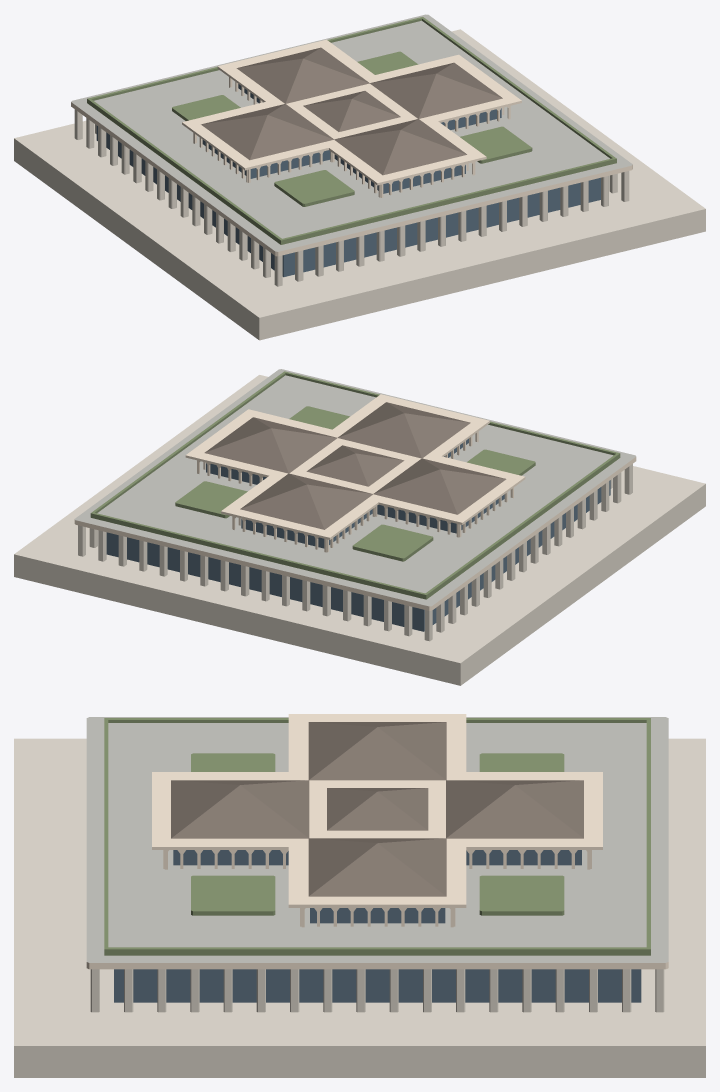
File: ral-nc-legislative-building.glb
3 renders of one model, top to bottom at view 1: azimuth 30°, elevation 25°; view 2: azimuth 150°, elevation 25°; view 3: azimuth 270°, elevation 25°, orthographic. The views are drawn at different scales.
Visible parts, largest first — view 1: North Carolina State Legislative Building; view 2: North Carolina State Legislative Building; view 3: North Carolina State Legislative Building.
Boxes of the visible parts, x1,y1,x2,y2 form: North Carolina State Legislative Building: (14,14,705,340); North Carolina State Legislative Building: (14,369,705,685); North Carolina State Legislative Building: (14,714,705,1077).
Bounding box in the file's own units: 103 × 21.6 × 98.2.
